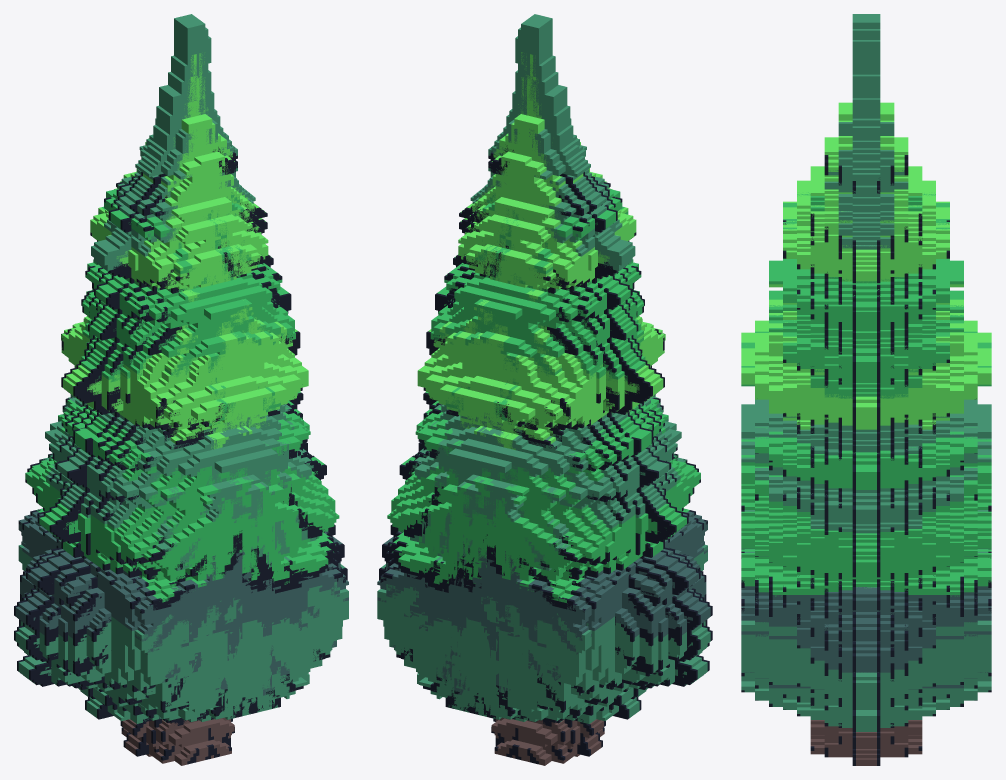
Rendered from Tree2.glb.
3 views of the same model, side by side, from view 1: azimuth 30°, elevation 25°; view 2: azimuth 150°, elevation 25°; view 3: azimuth 270°, elevation 25° (orthographic).
Parts seen in each view (by area): view 1: q0, q6, q1, q2, q4, q3, q7, q5; view 2: q0, q6, q1, q2, q4, q3, q7, q5; view 3: q3, q2, q1, q4, q0, q6, q5.
Part boxes in pixels (bbox=[...]): q0: bbox=[14, 16, 342, 765]; q6: bbox=[14, 17, 342, 716]; q1: bbox=[17, 15, 345, 729]; q2: bbox=[34, 14, 345, 728]; q4: bbox=[33, 40, 341, 724]; q3: bbox=[41, 80, 348, 729]; q7: bbox=[18, 173, 338, 719]; q5: bbox=[18, 216, 345, 720]; q0: bbox=[383, 16, 712, 765]; q6: bbox=[383, 17, 712, 719]; q1: bbox=[380, 15, 709, 727]; q2: bbox=[380, 14, 692, 727]; q4: bbox=[380, 40, 683, 723]; q3: bbox=[377, 76, 688, 728]; q7: bbox=[384, 173, 707, 721]; q5: bbox=[380, 213, 707, 724]; q3: bbox=[741, 77, 991, 731]; q2: bbox=[741, 20, 991, 703]; q1: bbox=[741, 18, 991, 713]; q4: bbox=[741, 120, 991, 725]; q0: bbox=[741, 15, 991, 765]; q6: bbox=[741, 14, 991, 722]; q5: bbox=[741, 408, 991, 726].
Size of the model in its own units: 108 by 235 by 71.99.
1 material, 1 textured.
